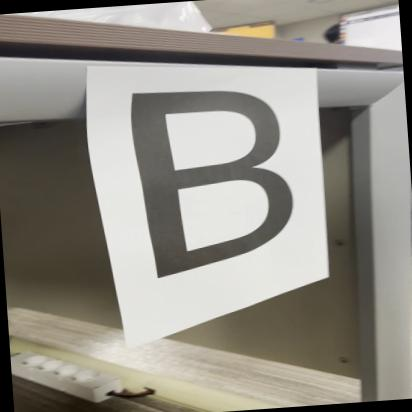seat: (119, 65, 320, 285)
